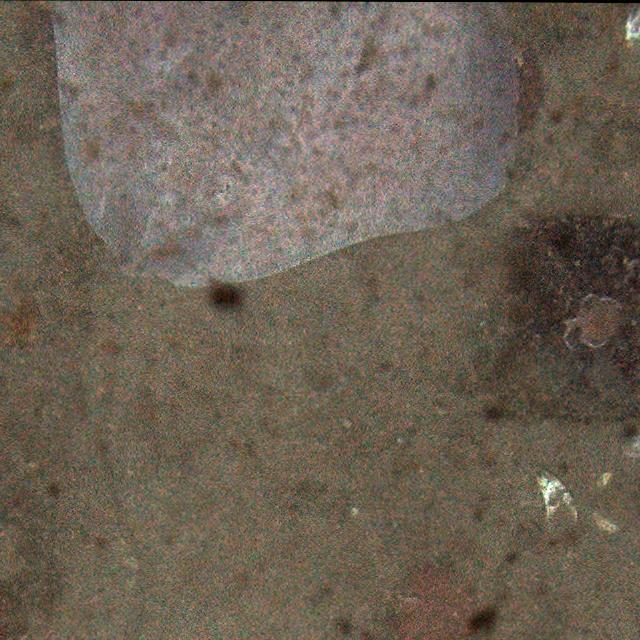skate: (50, 0, 514, 290)
